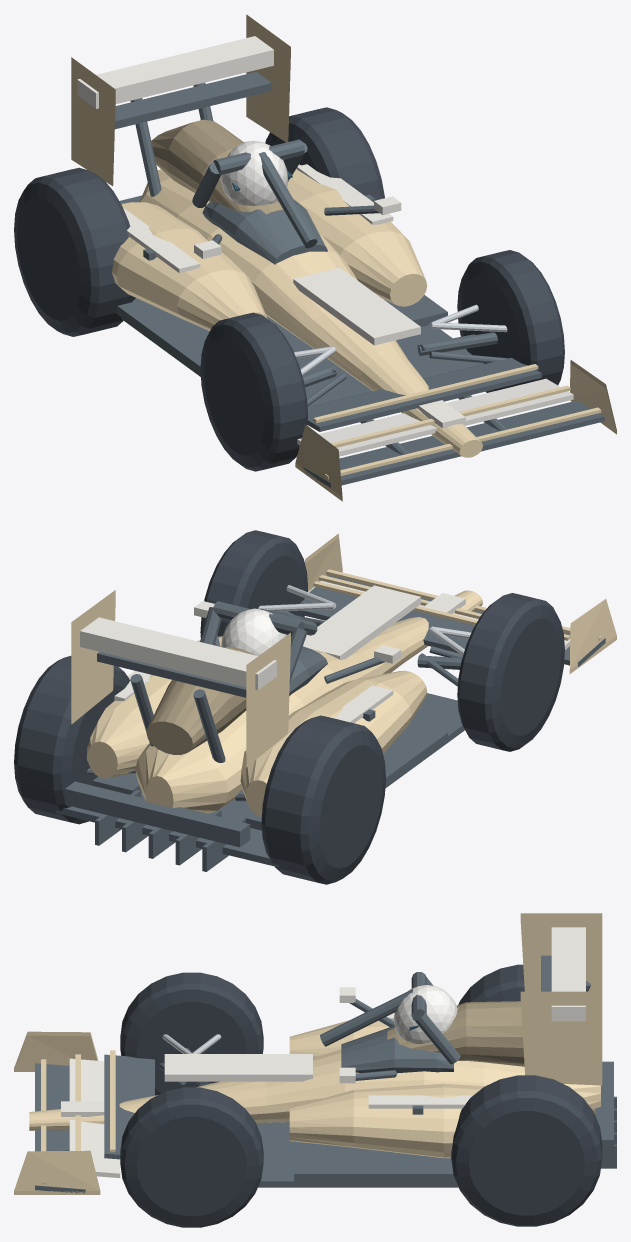
Rendered from porsche_high.glb.
The picture shows the model from 3 angles, top to bottom: view 1: azimuth 30°, elevation 25°; view 2: azimuth 150°, elevation 25°; view 3: azimuth 270°, elevation 25°; orthographic projection. The views are drawn at different scales.
Visible parts, largest first — view 1: BODY_paint, BODY_carbon, BODY_accent, RearLeftWheel_rubber, FrontLeftWheel_rubber, FrontRightWheel_rubber, RearRightWheel_rubber, BODY_paint_dark, BODY_helmet, BODY_metal; view 2: BODY_paint, BODY_carbon, RearLeftWheel_rubber, FrontLeftWheel_rubber, BODY_accent, RearRightWheel_rubber, FrontRightWheel_rubber, BODY_paint_dark, BODY_helmet, BODY_metal; view 3: BODY_paint, BODY_carbon, RearRightWheel_rubber, FrontRightWheel_rubber, BODY_accent, FrontLeftWheel_rubber, BODY_paint_dark, BODY_helmet, RearLeftWheel_rubber.
Part boxes in pixels (bbox=[...]): BODY_paint: bbox=[71, 14, 616, 501]; BODY_carbon: bbox=[115, 72, 604, 487]; BODY_accent: bbox=[77, 36, 573, 456]; RearLeftWheel_rubber: bbox=[14, 167, 135, 336]; FrontLeftWheel_rubber: bbox=[200, 312, 307, 471]; FrontRightWheel_rubber: bbox=[457, 250, 564, 392]; RearRightWheel_rubber: bbox=[265, 107, 384, 200]; BODY_paint_dark: bbox=[151, 119, 283, 214]; BODY_helmet: bbox=[221, 140, 288, 205]; BODY_metal: bbox=[294, 304, 507, 375]; BODY_paint: bbox=[71, 533, 616, 816]; BODY_carbon: bbox=[56, 575, 605, 871]; RearLeftWheel_rubber: bbox=[261, 715, 385, 884]; FrontLeftWheel_rubber: bbox=[457, 593, 564, 751]; BODY_accent: bbox=[80, 581, 570, 723]; RearRightWheel_rubber: bbox=[14, 656, 130, 824]; FrontRightWheel_rubber: bbox=[200, 530, 307, 637]; BODY_paint_dark: bbox=[146, 647, 256, 754]; BODY_helmet: bbox=[221, 608, 286, 655]; BODY_metal: bbox=[258, 585, 471, 655]; BODY_paint: bbox=[14, 913, 602, 1194]; BODY_carbon: bbox=[35, 955, 616, 1193]; RearRightWheel_rubber: bbox=[451, 1075, 602, 1226]; FrontRightWheel_rubber: bbox=[120, 1087, 263, 1227]; BODY_accent: bbox=[61, 927, 585, 1177]; FrontLeftWheel_rubber: bbox=[120, 972, 263, 1095]; BODY_paint_dark: bbox=[387, 1001, 524, 1066]; BODY_helmet: bbox=[393, 985, 457, 1043]; RearLeftWheel_rubber: bbox=[458, 964, 524, 1004].
Bounding box in the file's own units: 2.59 × 1.9 × 4.88.
